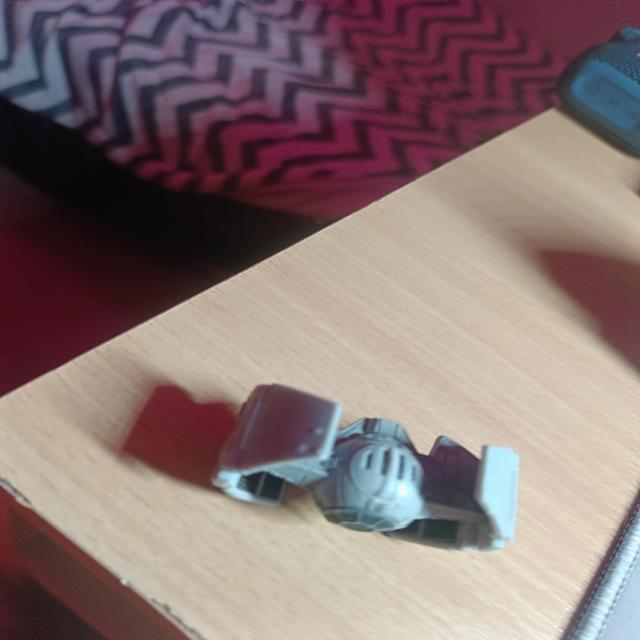tie fighter: (212, 384, 519, 551)
